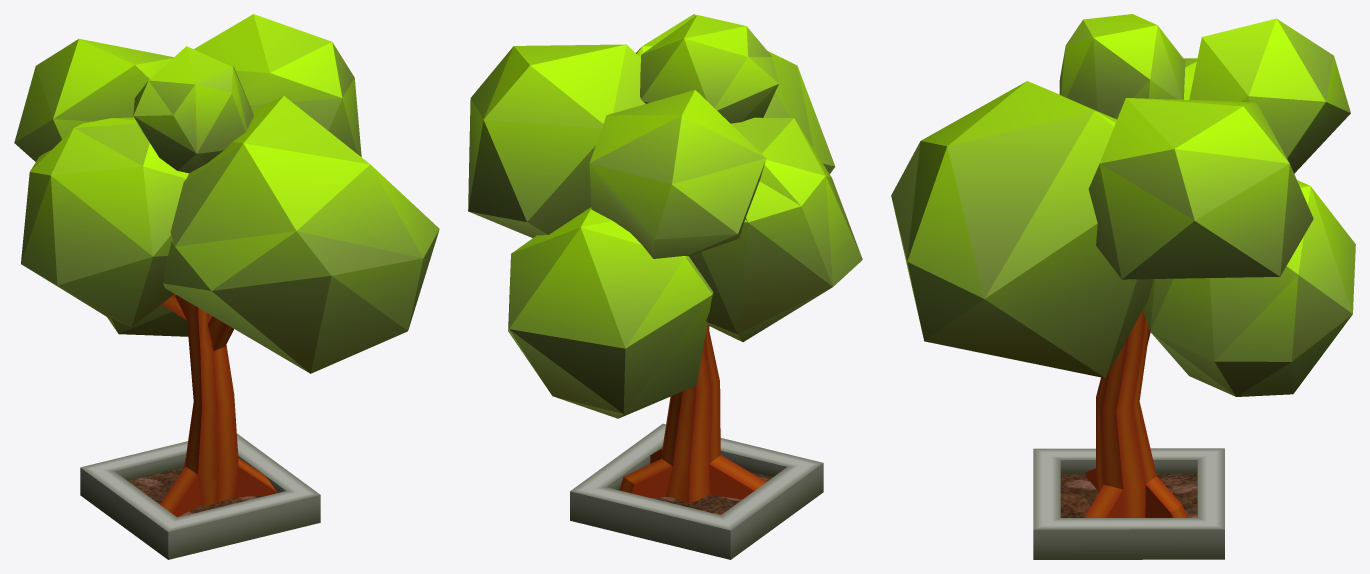
Rendered from lowPoly_tree.fbx.
3 renders of one model, left to right at view 1: azimuth 30°, elevation 25°; view 2: azimuth 150°, elevation 25°; view 3: azimuth 270°, elevation 25°, orthographic. The views are drawn at different scales.
Visible parts, largest first — view 1: Tree; view 2: Tree; view 3: Tree.
Boxes of the visible parts, x1,y1,x2,y2 form: Tree: (14, 14, 439, 559); Tree: (468, 14, 862, 559); Tree: (891, 14, 1355, 559).
Bounding box in the file's own units: 156 × 202 × 170.
Materials: 1 (1 with a texture image).
